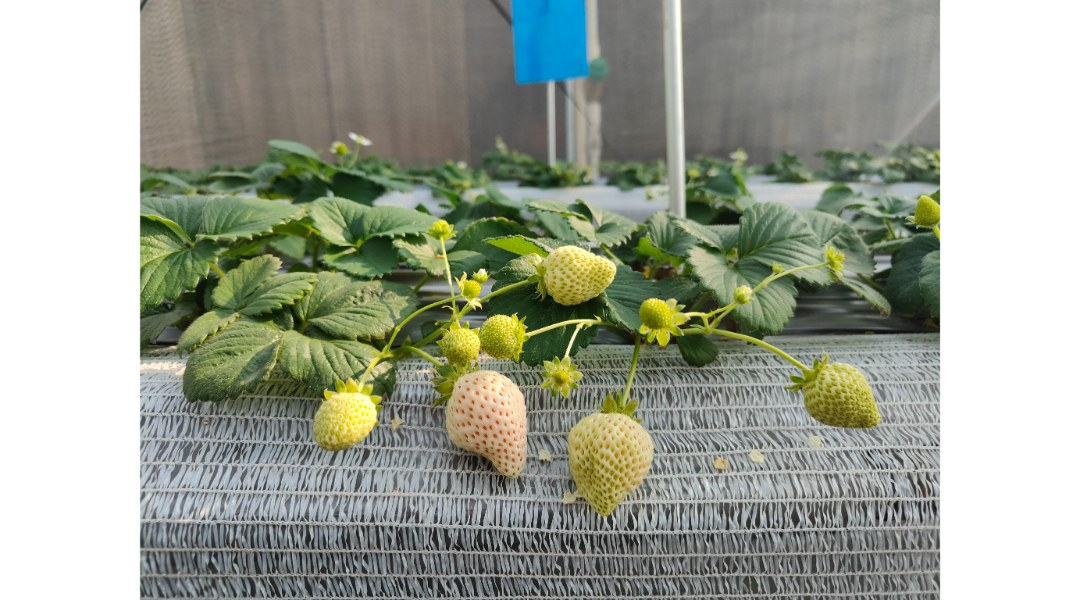berry: (557, 393, 665, 528), (436, 367, 535, 488), (784, 353, 892, 439), (524, 235, 620, 304), (309, 378, 380, 451), (902, 190, 958, 235), (484, 306, 533, 354), (637, 289, 678, 346), (430, 324, 480, 368), (541, 349, 583, 400), (417, 211, 455, 243), (456, 271, 483, 314), (817, 243, 847, 281), (728, 282, 764, 304)
strain: (718, 324, 803, 368), (606, 346, 642, 420), (392, 295, 444, 342), (764, 254, 823, 284), (535, 313, 588, 340), (354, 348, 383, 396), (435, 238, 458, 294), (487, 275, 534, 298), (568, 322, 582, 364)
